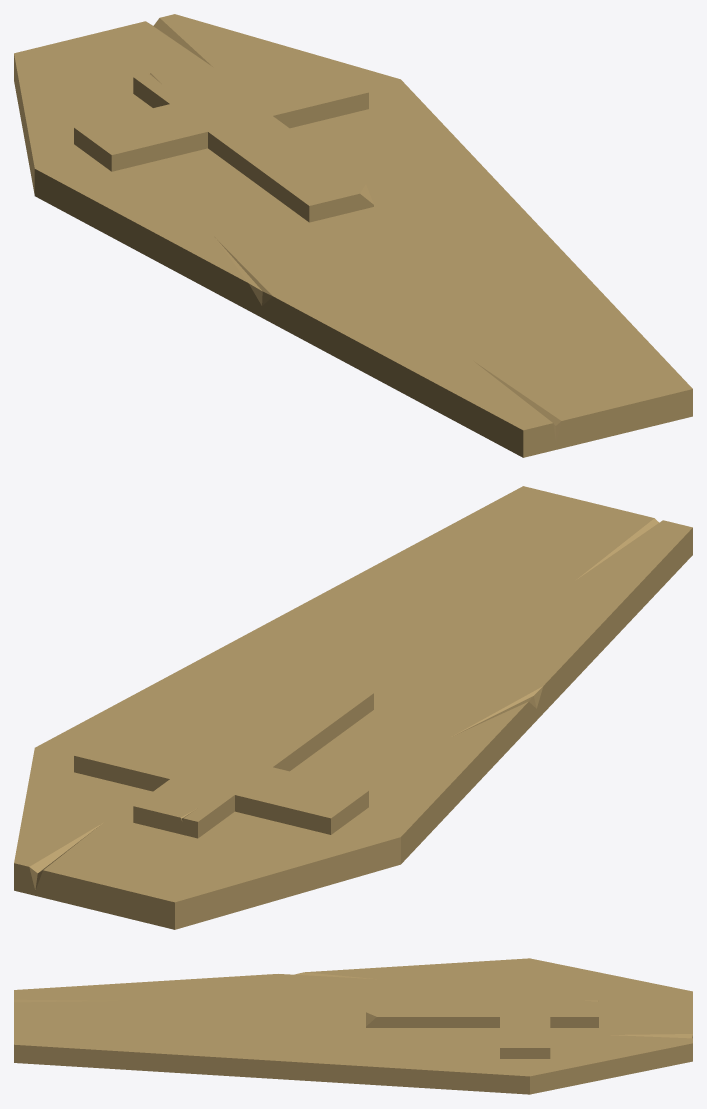
Rendered from coffin_wood_top.fbx.
3 views of the same model, one above another, from view 1: azimuth 30°, elevation 25°; view 2: azimuth 150°, elevation 25°; view 3: azimuth 270°, elevation 25° (orthographic). The views are drawn at different scales.
Visible parts, largest first — view 1: coffin_wood_top; view 2: coffin_wood_top; view 3: coffin_wood_top.
Boxes of the visible parts, <box> form: coffin_wood_top: <box>14,14,692,457</box>; coffin_wood_top: <box>14,486,692,929</box>; coffin_wood_top: <box>14,958,692,1094</box>.
Bounding box in the file's own units: 0.9426 × 0.1086 × 2.29.
